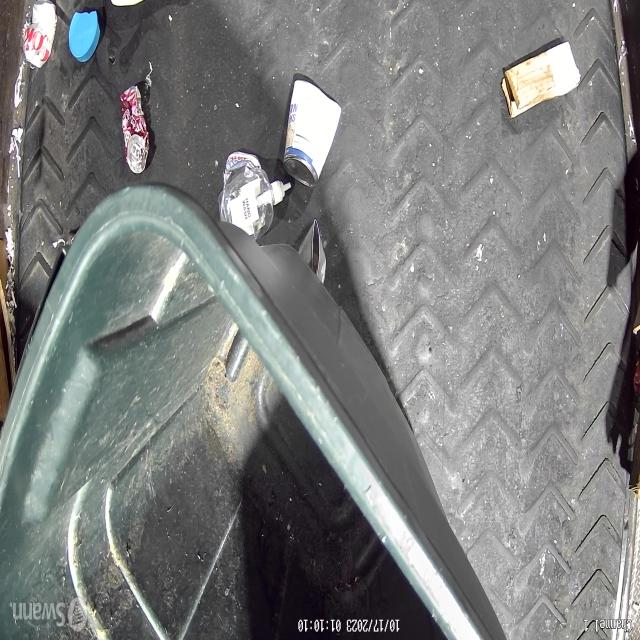can: (284, 81, 342, 188), (118, 84, 150, 174), (19, 0, 57, 72), (299, 220, 325, 282)
